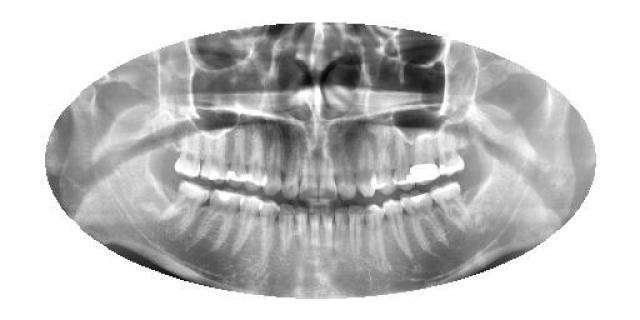Fillings: (408, 126, 442, 185), (226, 122, 246, 186)
